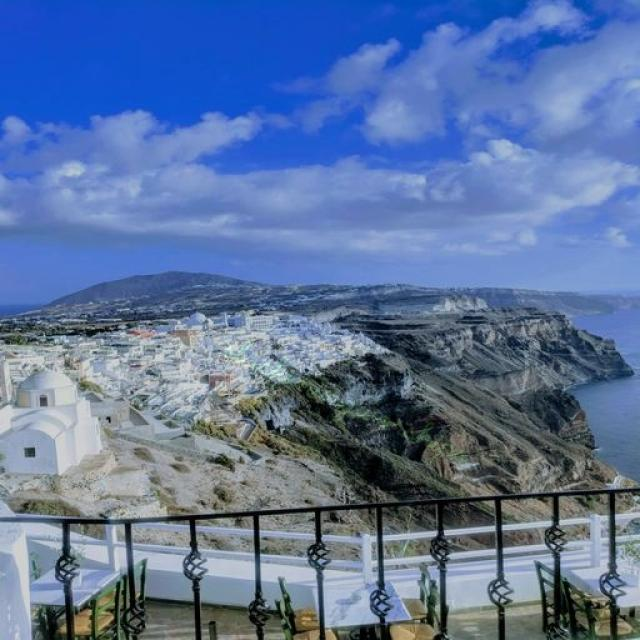watermark: (214, 329, 491, 470)
